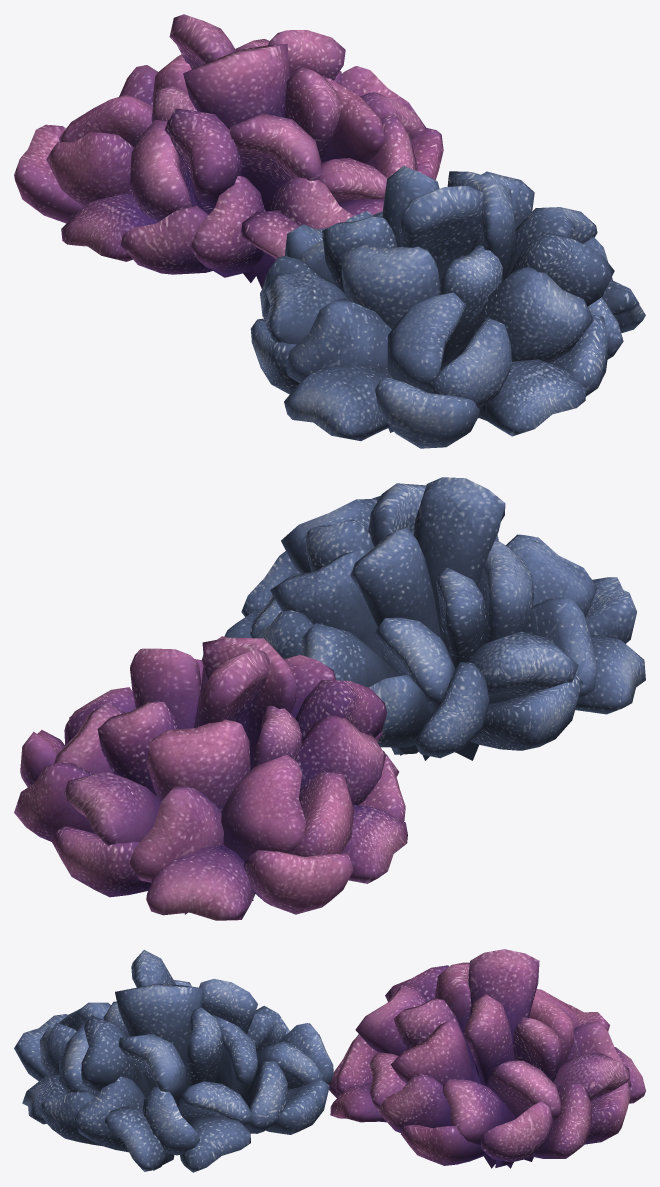
The model's file is plant_04.fbx.
3 views of the same model, one above another, from view 1: azimuth 30°, elevation 25°; view 2: azimuth 150°, elevation 25°; view 3: azimuth 270°, elevation 25° (orthographic). The views are drawn at different scales.
Parts seen in each view (by area): view 1: polySurface2, polySurface1; view 2: polySurface1, polySurface2; view 3: polySurface1, polySurface2.
Boxes of the visible parts, left/top/right/bottom form: polySurface2: left=250, top=165, right=645, bottom=448; polySurface1: left=14, top=14, right=443, bottom=288; polySurface1: left=14, top=636, right=407, bottom=920; polySurface2: left=224, top=477, right=645, bottom=760; polySurface1: left=328, top=949, right=645, bottom=1168; polySurface2: left=14, top=950, right=333, bottom=1172.
Size of the model in its own units: 14.39 by 9.81 by 28.45.
